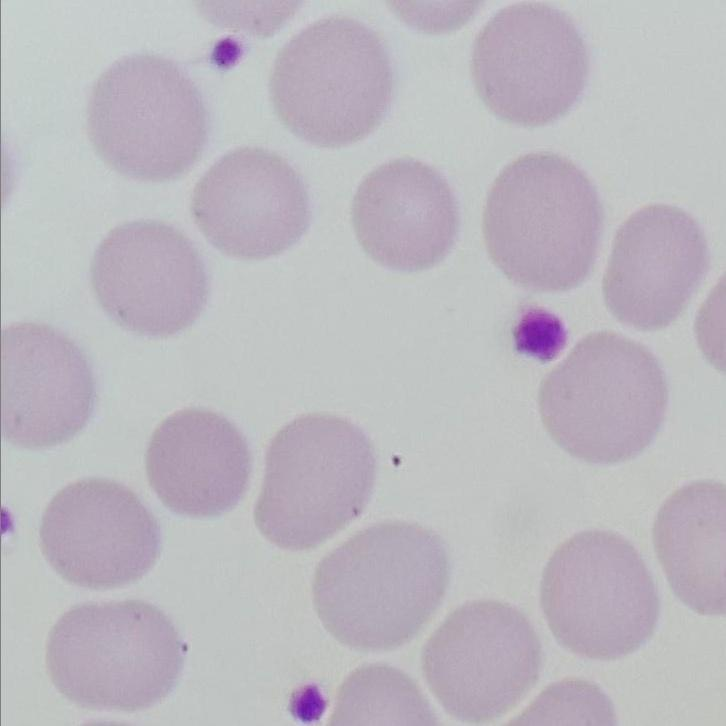Uninfected: (313, 520, 453, 649), (536, 332, 668, 464), (253, 413, 374, 552), (83, 52, 209, 182), (269, 16, 390, 147), (44, 595, 182, 709), (540, 530, 658, 661), (486, 152, 596, 288), (473, 0, 589, 123), (426, 596, 537, 722), (91, 220, 211, 335), (40, 477, 161, 591), (193, 145, 305, 258), (606, 203, 706, 327), (144, 407, 250, 519), (354, 157, 458, 271), (0, 320, 92, 448)
